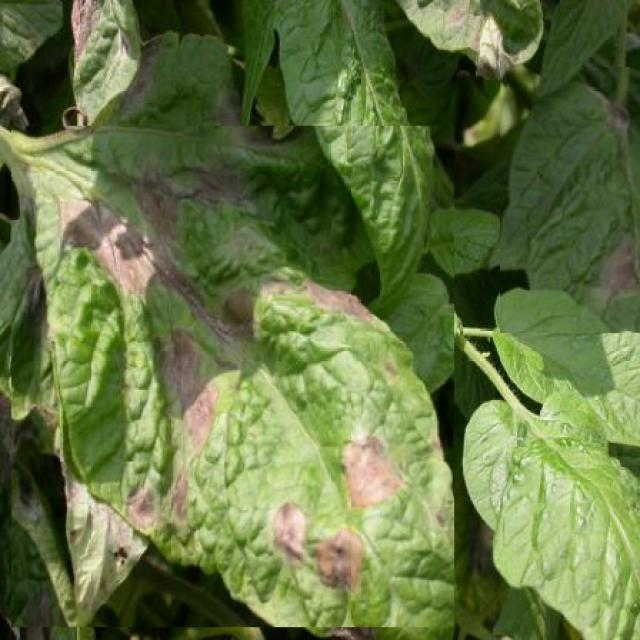Late Blight: (12, 126, 454, 627), (500, 67, 640, 333)
